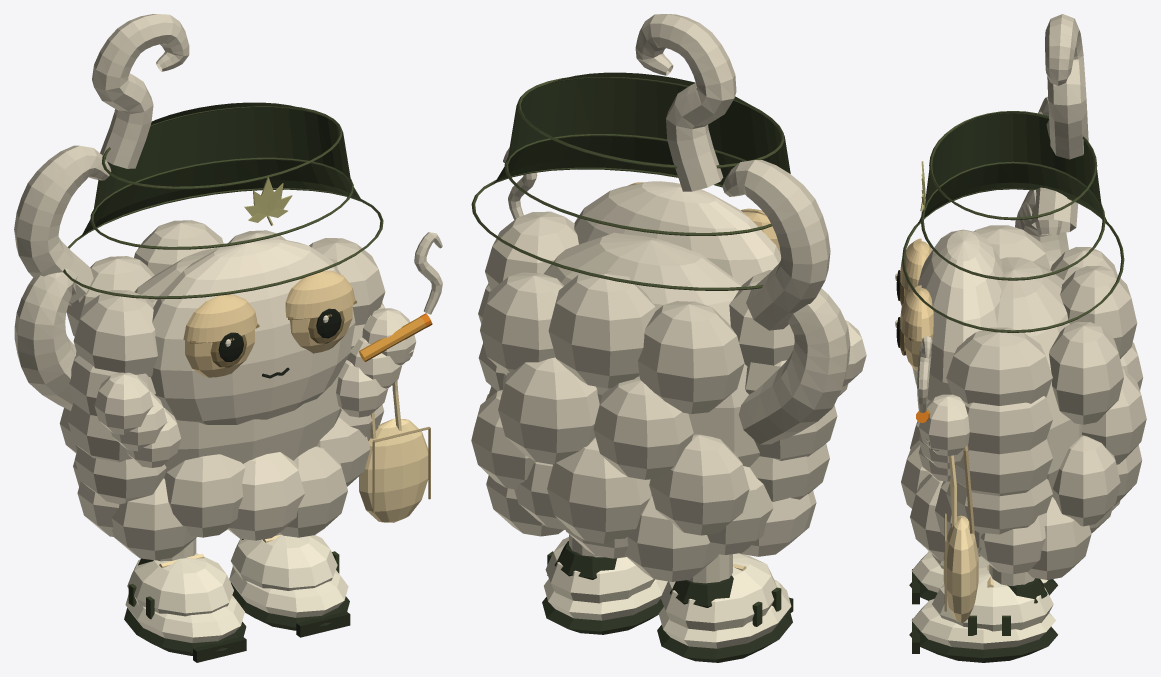
The model's file is Maria Fumaça.glb.
3 renders of one model, left to right at view 1: azimuth 30°, elevation 25°; view 2: azimuth 150°, elevation 25°; view 3: azimuth 270°, elevation 25°, orthographic. The views are drawn at different scales.
Visible parts, largest first — view 1: Maria_Fumaca; view 2: Maria_Fumaca; view 3: Maria_Fumaca.
Boxes of the visible parts, left/top/right/bottom form: Maria_Fumaca: left=14, top=14, right=442, bottom=662; Maria_Fumaca: left=471, top=14, right=866, bottom=662; Maria_Fumaca: left=895, top=14, right=1146, bottom=662.
Bounding box in the file's own units: 1.86 × 2.85 × 1.11.
Materials: 1 (1 with a texture image).
